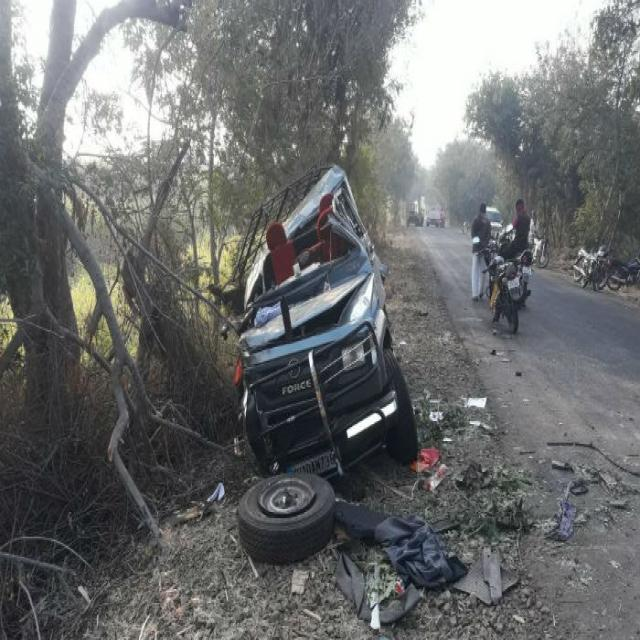accident: (235, 167, 418, 478)
